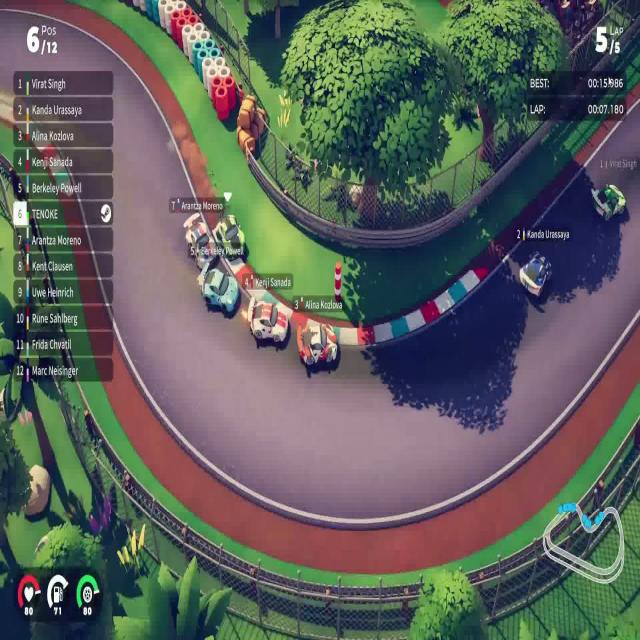car: (296, 317, 338, 370), (247, 296, 289, 346), (200, 266, 240, 316), (183, 213, 216, 265), (518, 250, 552, 300), (213, 212, 246, 260), (590, 182, 626, 222)
